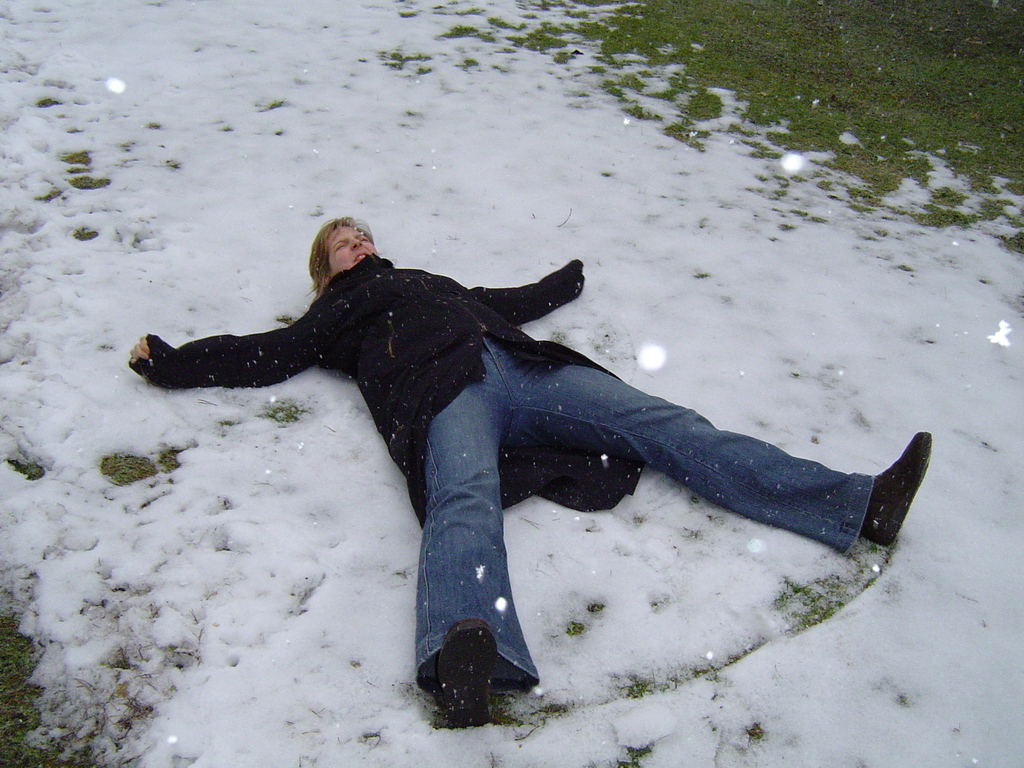Person: (127, 216, 932, 729)
